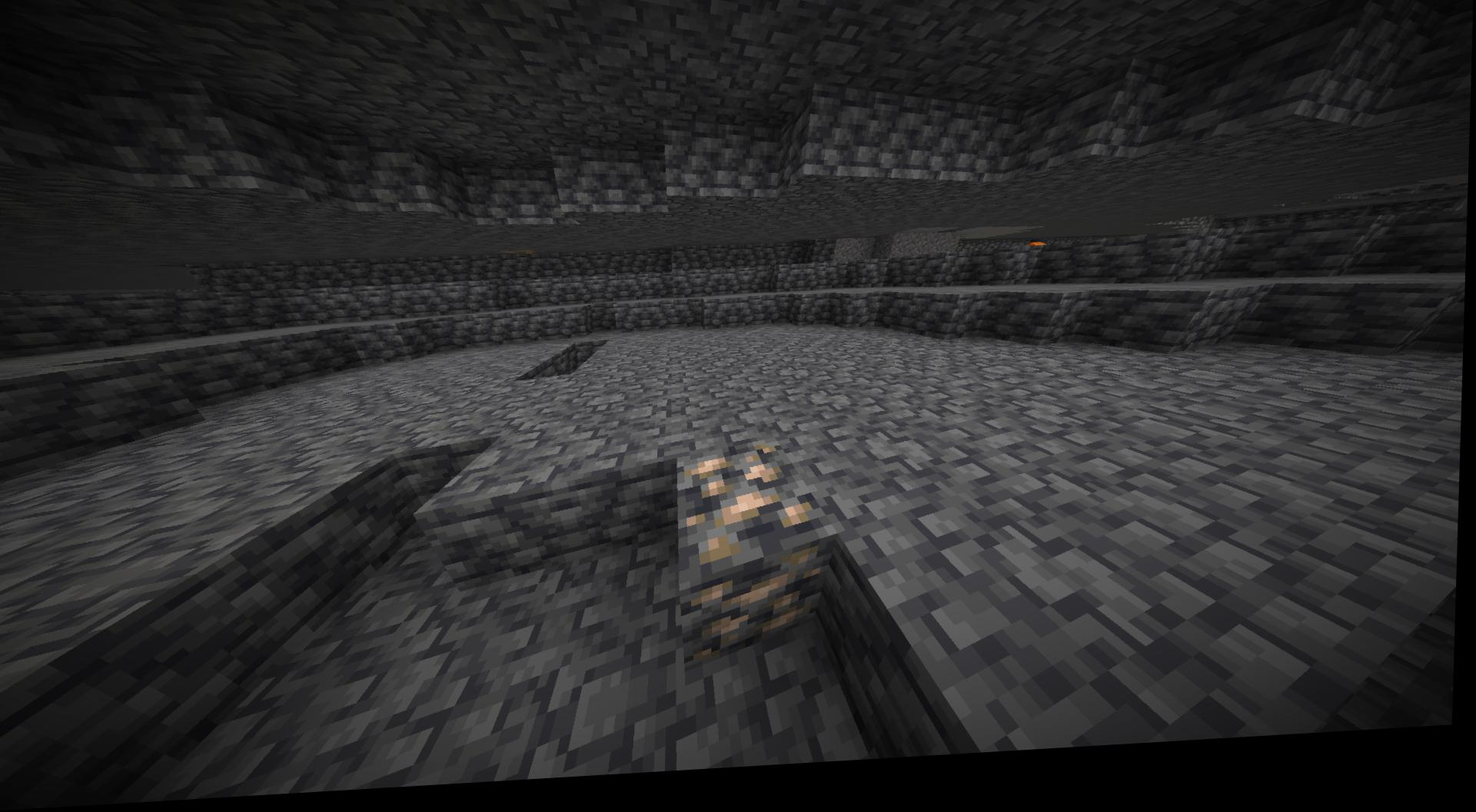iron ore: (688, 451, 820, 574), (701, 563, 829, 668)
